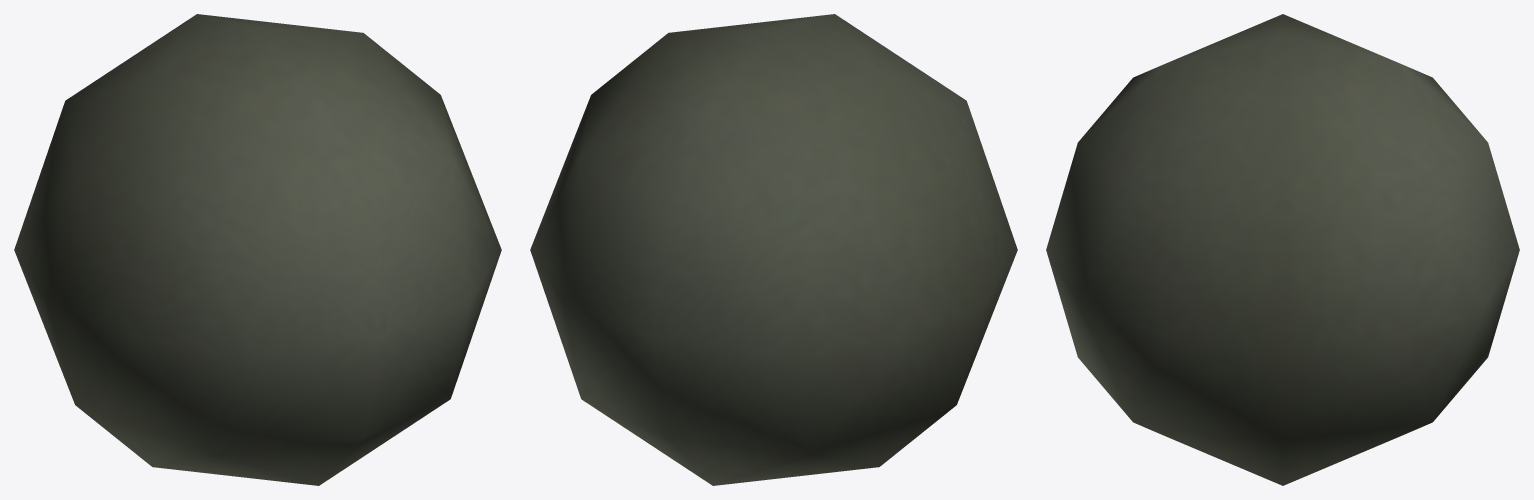
Rendered from CannonBall.FBX.
The picture shows the model from 3 angles, left to right: view 1: azimuth 30°, elevation 25°; view 2: azimuth 150°, elevation 25°; view 3: azimuth 270°, elevation 25°; orthographic projection. The views are drawn at different scales.
Visible parts, largest first — view 1: CannonBall; view 2: CannonBall; view 3: CannonBall.
Part boxes in pixels (<box>): CannonBall: <box>14,14,501,485</box>; CannonBall: <box>530,14,1017,485</box>; CannonBall: <box>1046,14,1519,485</box>.
Bounding box in the file's own units: 45.49 × 45.49 × 45.49.
